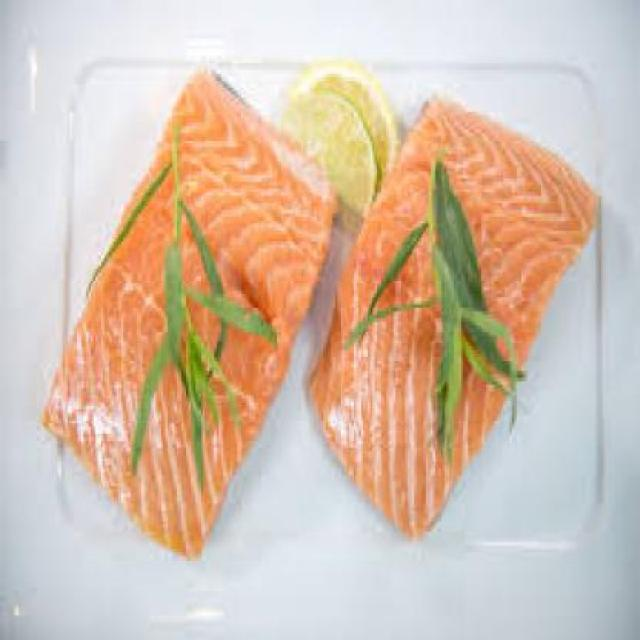salmon: (37, 60, 344, 588), (308, 85, 608, 553)
